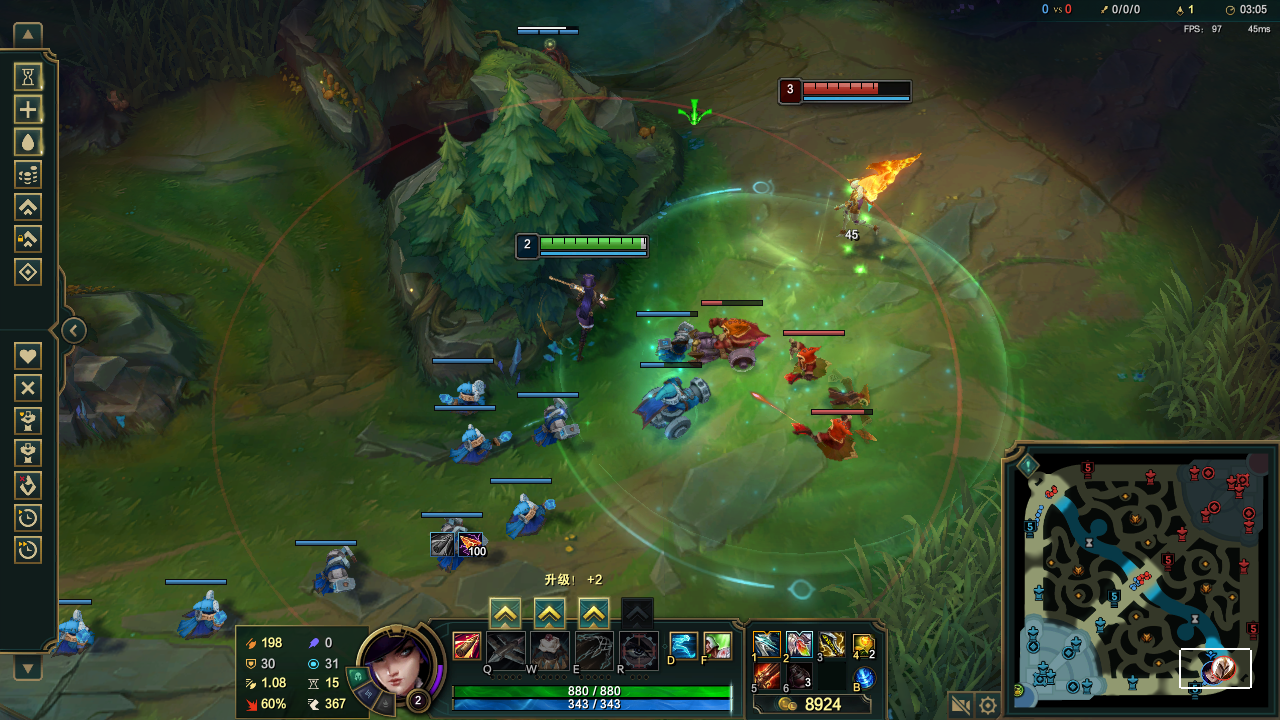DFYX: (800, 81, 910, 96)
